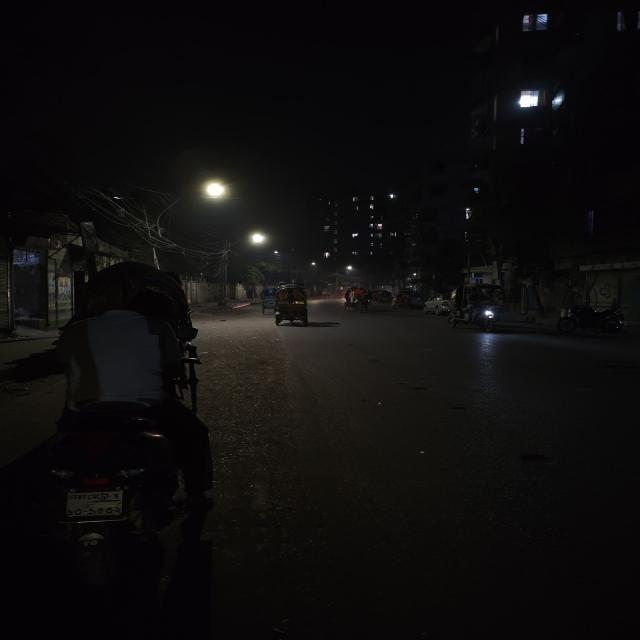car: (423, 291, 451, 316)
motorcycle: (558, 300, 628, 339)
rickshaw: (448, 282, 504, 331), (264, 283, 319, 330), (346, 284, 374, 312)
